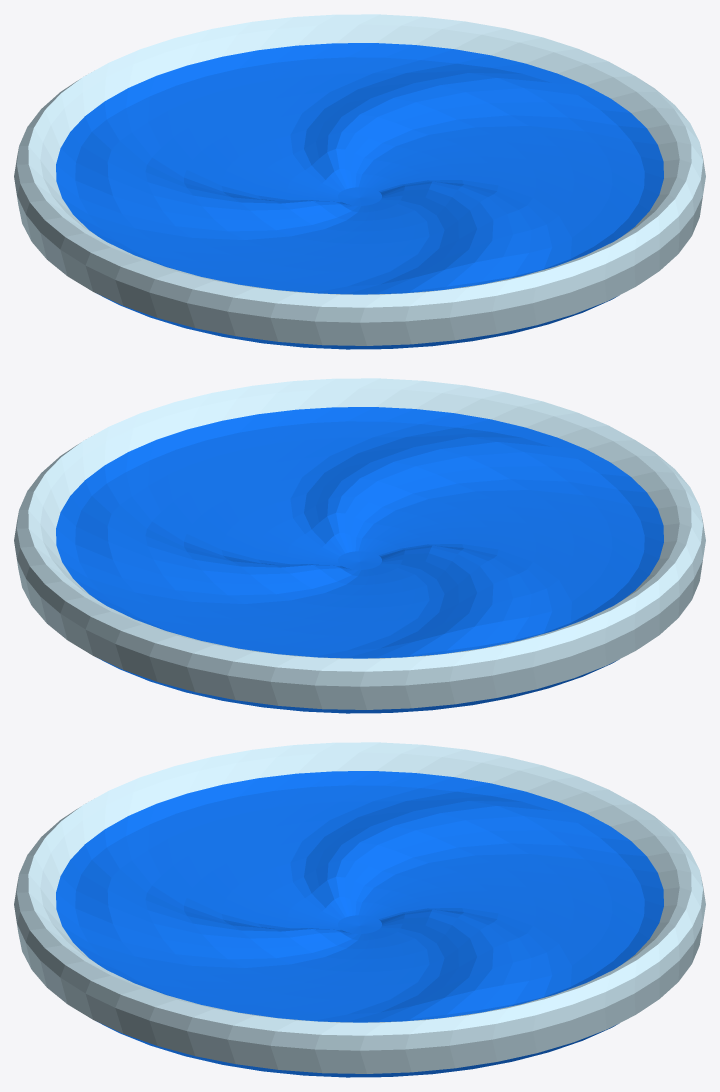
Rendered from BE_PowerMesh_FxWhirlpoolBasin.fbx.
3 renders of one model, top to bottom at view 1: azimuth 30°, elevation 25°; view 2: azimuth 150°, elevation 25°; view 3: azimuth 270°, elevation 25°, orthographic.
Parts seen in each view (by area): view 1: BE_PowerMesh_FxWhirlpoolBasin; view 2: BE_PowerMesh_FxWhirlpoolBasin; view 3: BE_PowerMesh_FxWhirlpoolBasin.
Part boxes in pixels (<box>): BE_PowerMesh_FxWhirlpoolBasin: <box>14,14,705,349</box>; BE_PowerMesh_FxWhirlpoolBasin: <box>14,378,705,713</box>; BE_PowerMesh_FxWhirlpoolBasin: <box>14,742,705,1077</box>.
Size of the model in its own units: 1000 by 90 by 1000.
1 material, 1 textured.
